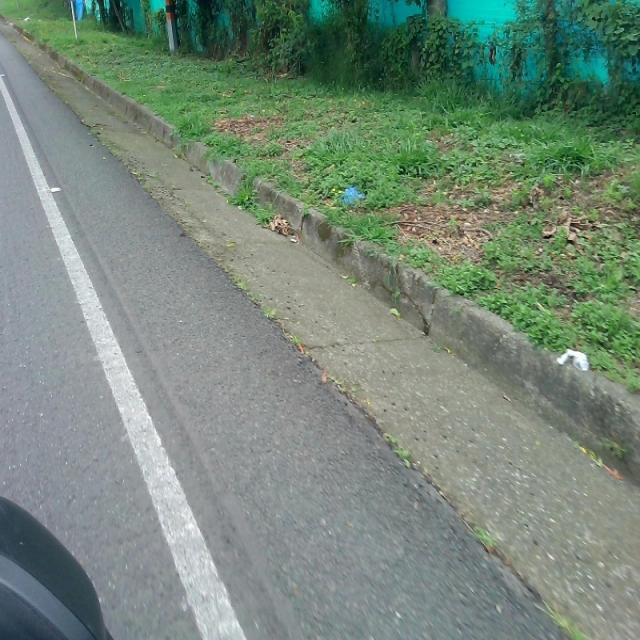DITCH: (1, 14, 638, 638), (9, 66, 638, 638), (70, 41, 638, 638)
